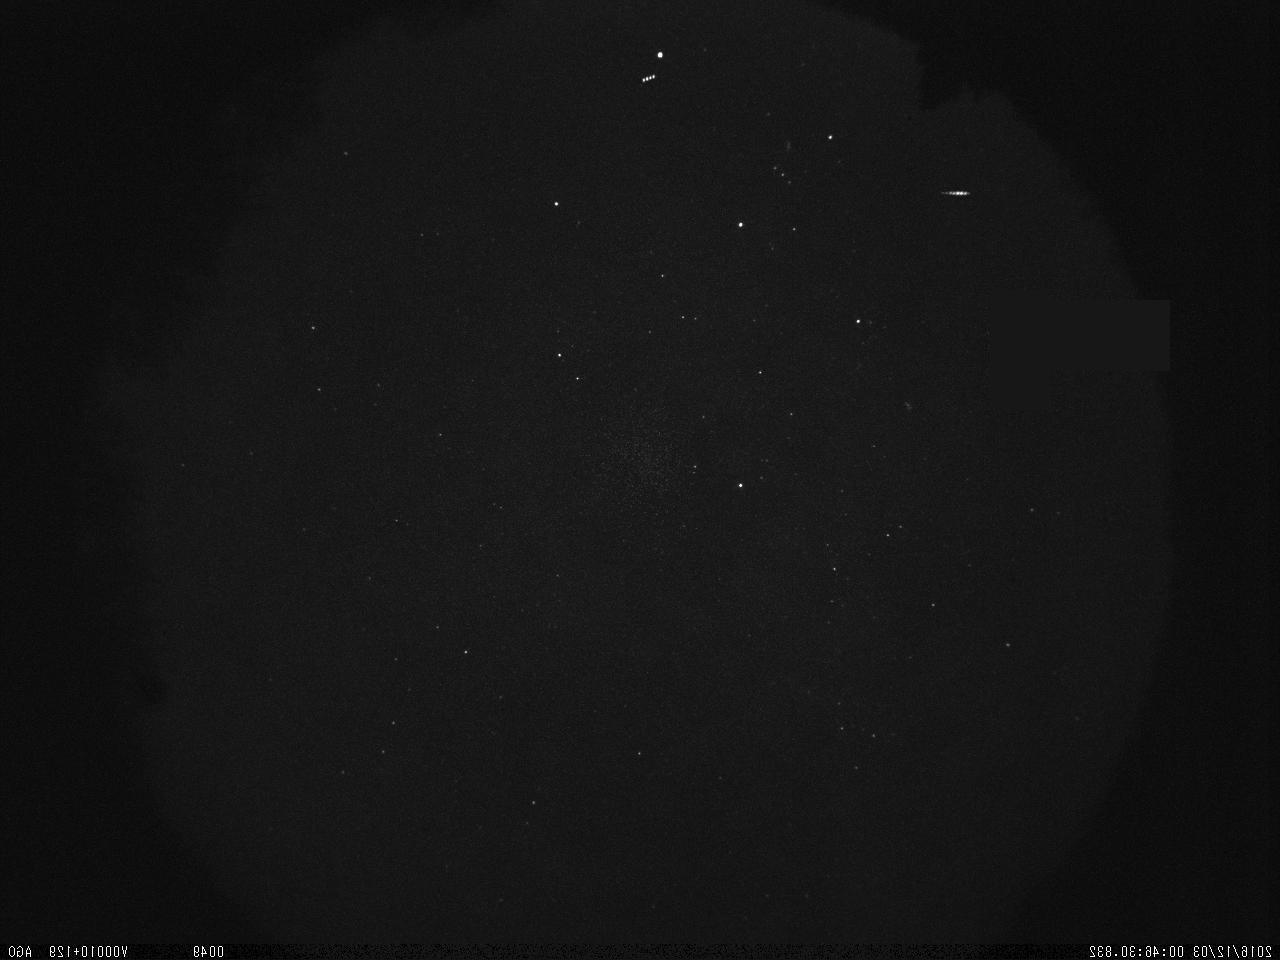meteor: (927, 182, 982, 206)
